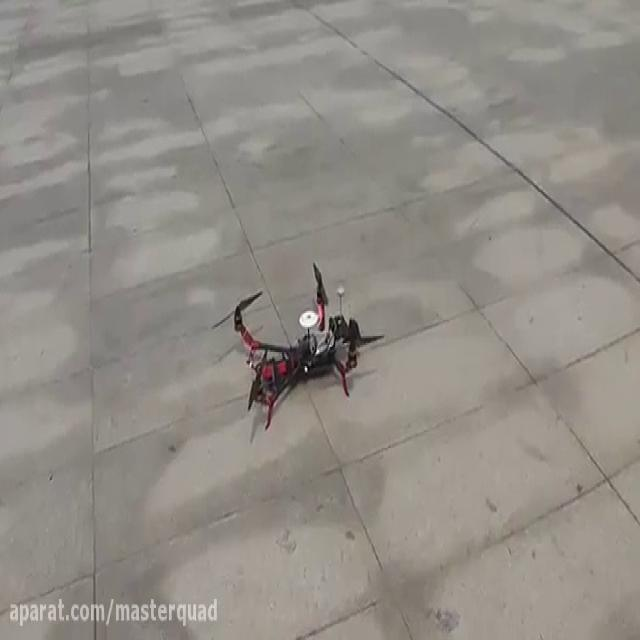drone: (209, 258, 385, 430)
